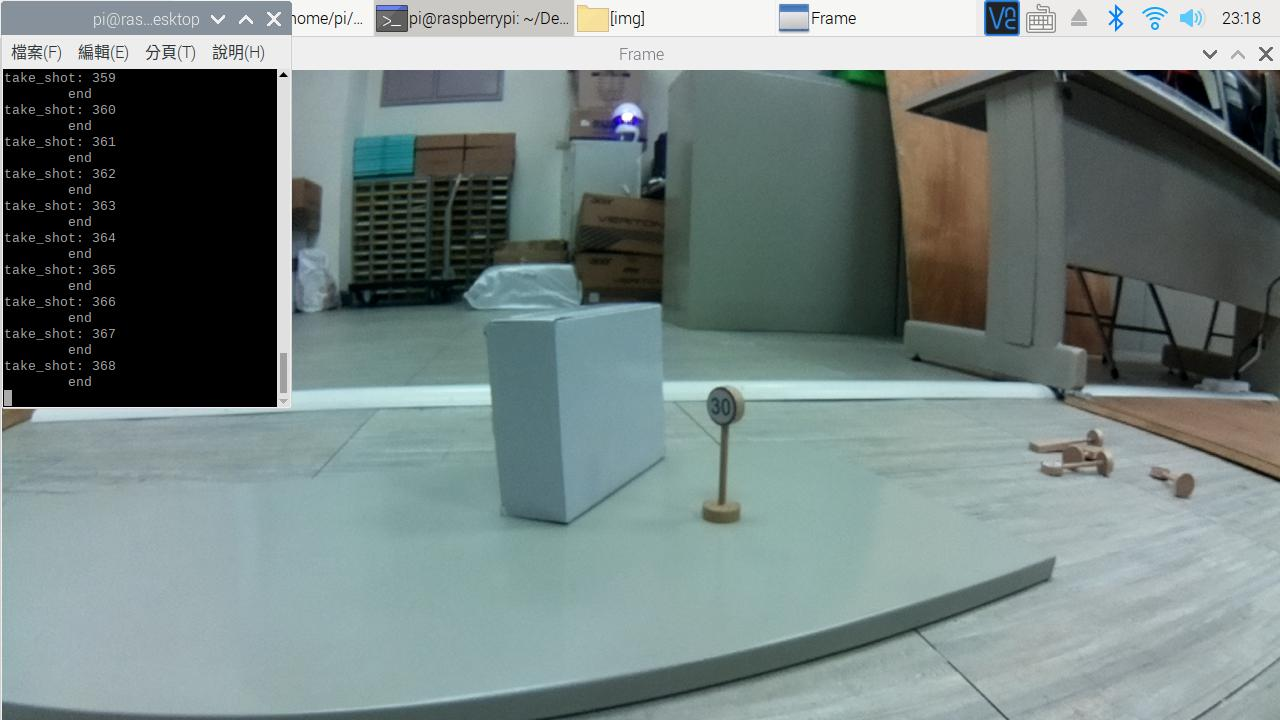Speed30: (696, 383, 757, 438)
